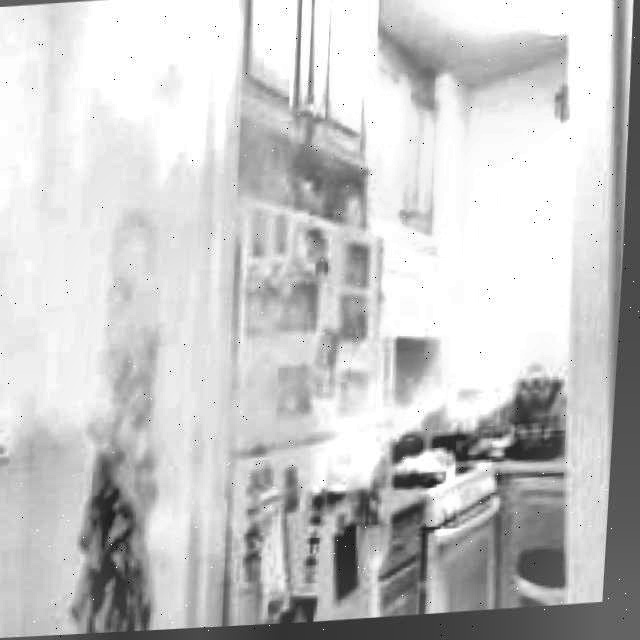Smoke: (0, 0, 578, 598)
